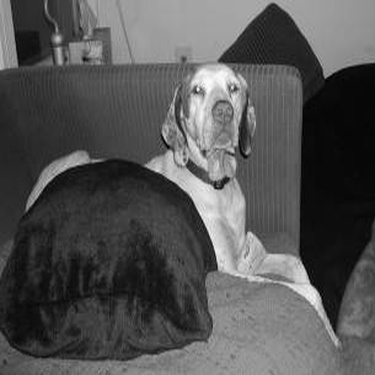dog: (16, 52, 349, 353)
